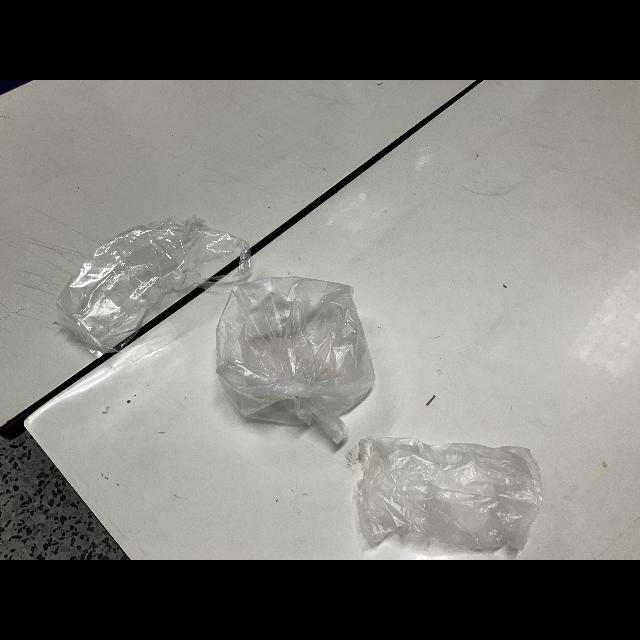plastic_bag: (48, 212, 256, 364), (212, 274, 384, 446)
scrap_plastic: (348, 422, 550, 560)
